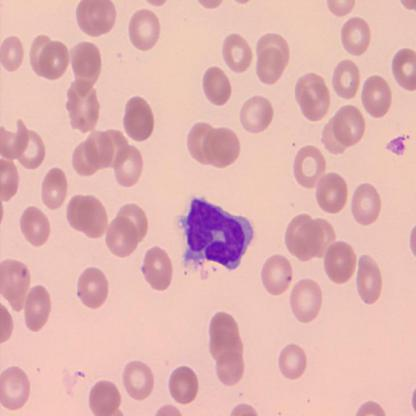Monocyte: (174, 192, 256, 281)
